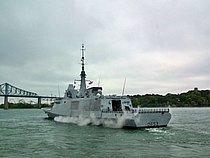MIL_Ship: (40, 69, 172, 129)
